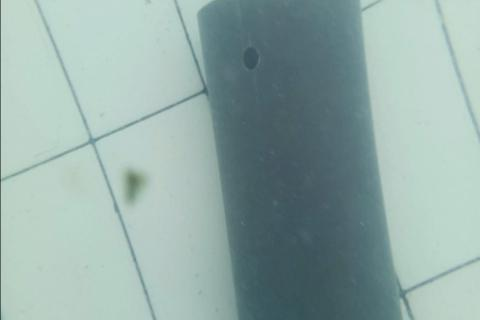kebocoran: (242, 46, 261, 73)
